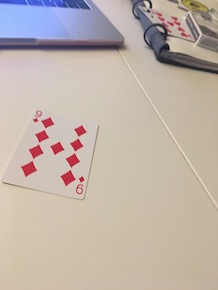NineOfDiamonds: (4, 105, 102, 203)
